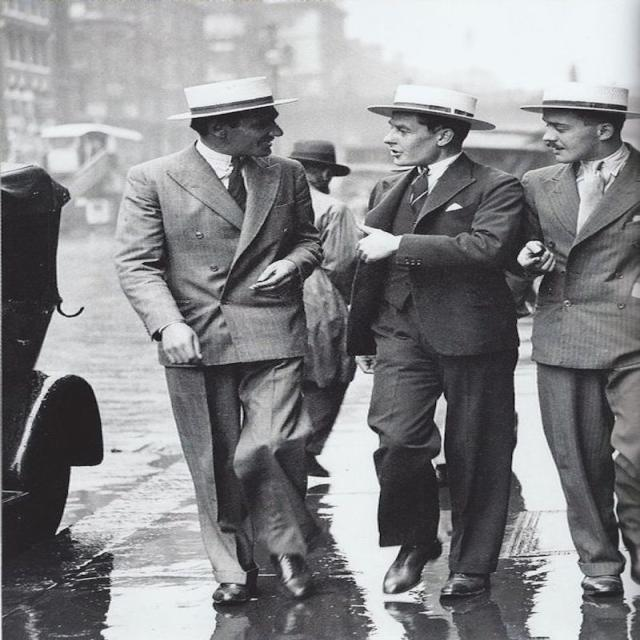hat: (167, 76, 302, 159), (369, 85, 496, 164), (524, 85, 638, 162)
